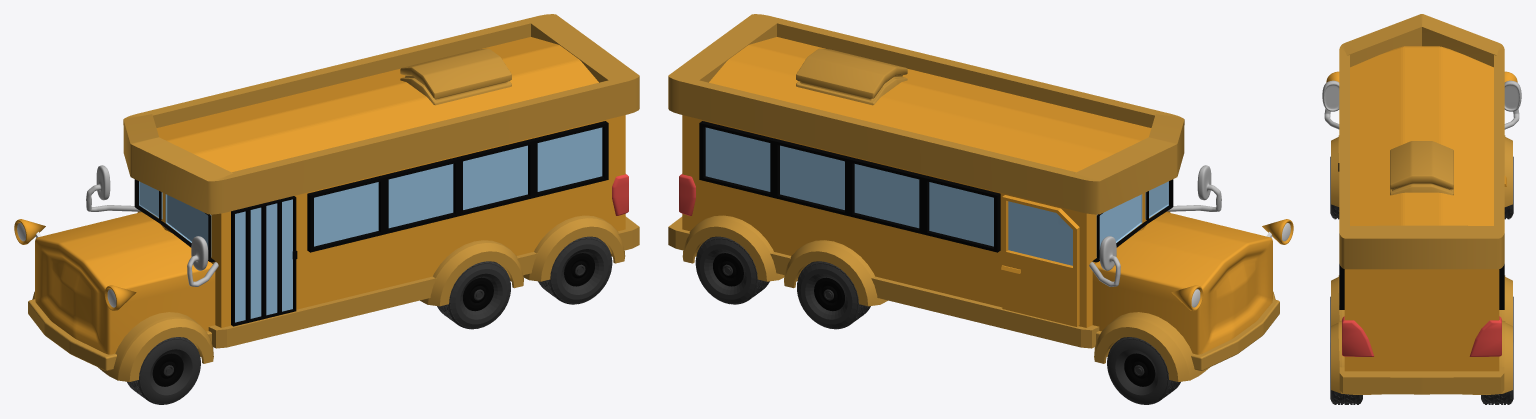
File: bus.fbx
3 views of the same model, side by side, from view 1: azimuth 30°, elevation 25°; view 2: azimuth 150°, elevation 25°; view 3: azimuth 270°, elevation 25° (orthographic). The views are drawn at different scales.
Visible parts, largest first — view 1: Cube, Cube.004, Cube.007, Cube.001, Cube.006, Cube.003, Cube.005, Circle.003, Circle.007, Circle.011, Circle.008, Circle (+9 smaller); view 2: Cube, Cube.004, Cube.007, Cube.001, Cube.008, Cube.003, Cube.005, Circle.003, Circle.007, Circle.011, Circle.008, Circle (+9 smaller); view 3: Cube, Cube.004, Cube.003, Cube.005, Cube.010, Circle.011, Plane, Circle.003, Circle.007, Circle.008, Cube.007, Circle (+1 smaller).
Part boxes in pixels (x1,y1,x2,y2): Cube: (137, 37, 625, 327); Cube.004: (123, 14, 639, 214); Cube.007: (307, 121, 608, 252); Cube.001: (35, 212, 215, 354); Cube.006: (231, 196, 297, 326); Cube.003: (208, 216, 639, 348); Cube.005: (400, 48, 511, 105); Circle.003: (32, 291, 213, 381); Circle.007: (420, 240, 523, 306); Circle.011: (523, 215, 625, 281); Circle.008: (538, 236, 612, 304); Circle: (127, 337, 200, 404); Cube: (682, 37, 1170, 327); Cube.004: (668, 14, 1184, 214); Cube.007: (699, 121, 1000, 252); Cube.001: (1092, 212, 1272, 354); Cube.008: (1001, 195, 1079, 326); Cube.003: (668, 216, 1099, 348); Cube.005: (796, 48, 907, 105); Circle.003: (1094, 291, 1275, 381); Circle.007: (784, 240, 887, 306); Circle.011: (682, 215, 784, 281); Circle.008: (695, 236, 769, 304); Circle: (1107, 337, 1180, 404); Cube: (1344, 46, 1499, 371); Cube.004: (1339, 14, 1504, 269); Cube.003: (1339, 367, 1504, 394); Cube.005: (1390, 141, 1453, 195); Cube.010: (1342, 316, 1501, 356); Circle.011: (1331, 320, 1512, 394); Plane: (1322, 80, 1521, 129); Circle.003: (1331, 135, 1512, 206); Circle.007: (1331, 275, 1512, 325); Circle.008: (1330, 342, 1513, 404); Cube.007: (1339, 264, 1504, 309); Circle: (1330, 156, 1513, 219).
Size of the model in its own units: 2382 by 951 by 822.
